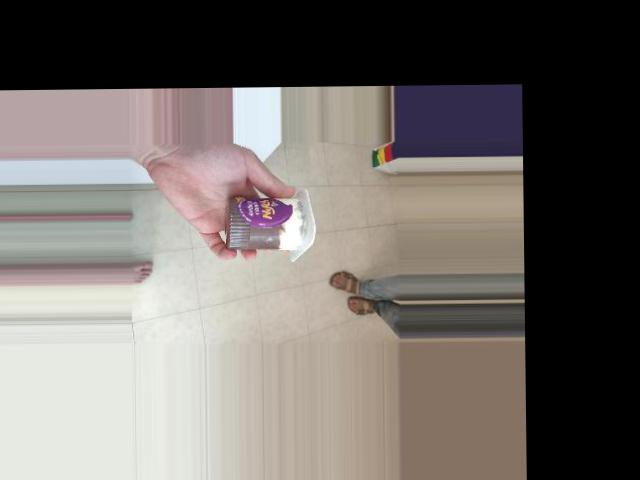milky: (212, 180, 323, 261)
